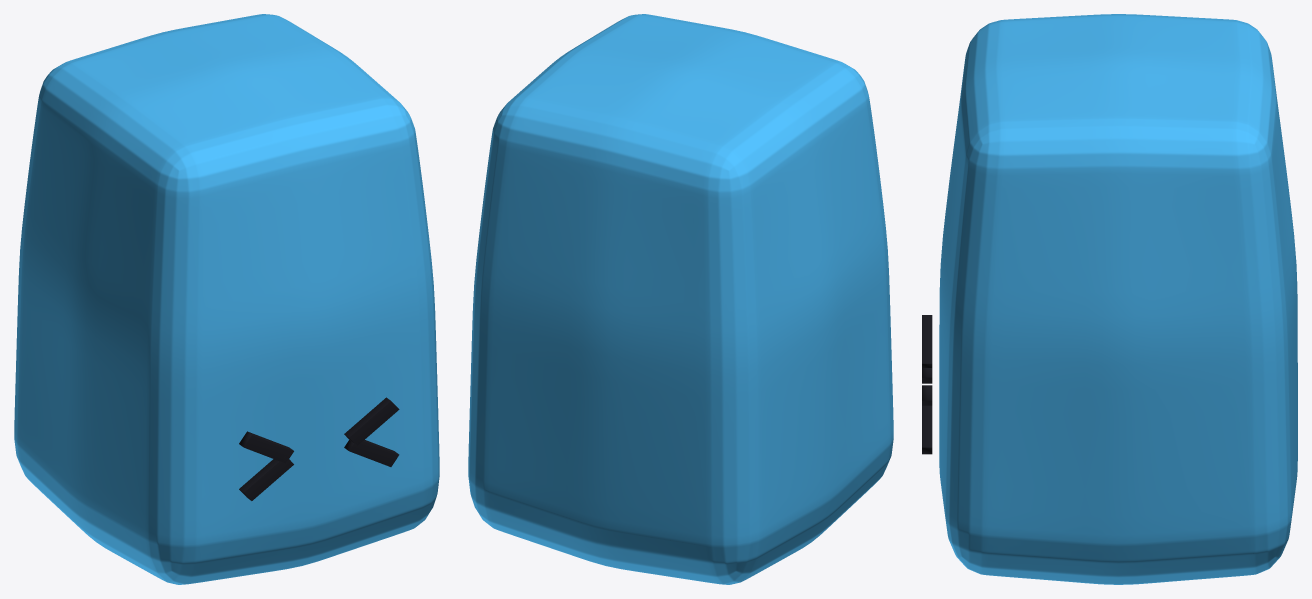
The model's file is jelly-box.glb.
The picture shows the model from 3 angles, left to right: view 1: azimuth 30°, elevation 25°; view 2: azimuth 150°, elevation 25°; view 3: azimuth 270°, elevation 25°; orthographic projection. The views are drawn at different scales.
Visible parts, largest first — view 1: JellyBox, EyeStroke.002, EyeStroke.001, EyeStroke, EyeStroke.003; view 2: JellyBox; view 3: JellyBox, EyeStroke, EyeStroke.003.
Boxes of the visible parts, bbox=[...] form: JellyBox: bbox=[14, 14, 439, 584]; EyeStroke.002: bbox=[344, 397, 399, 445]; EyeStroke.001: bbox=[239, 456, 293, 500]; EyeStroke: bbox=[239, 431, 293, 463]; EyeStroke.003: bbox=[344, 440, 399, 466]; JellyBox: bbox=[468, 14, 893, 584]; JellyBox: bbox=[939, 14, 1297, 584]; EyeStroke: bbox=[922, 315, 932, 367]; EyeStroke.003: bbox=[922, 405, 932, 454].
Size of the model in its own units: 0.9179 by 1.36 by 0.9619.
